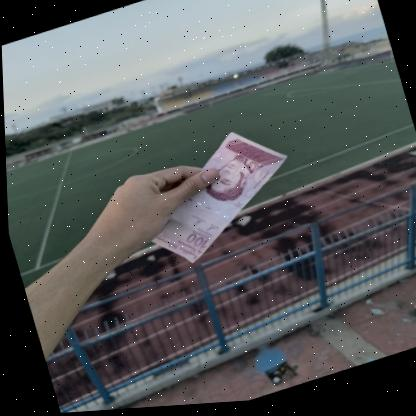vef_front: (124, 118, 309, 278)
